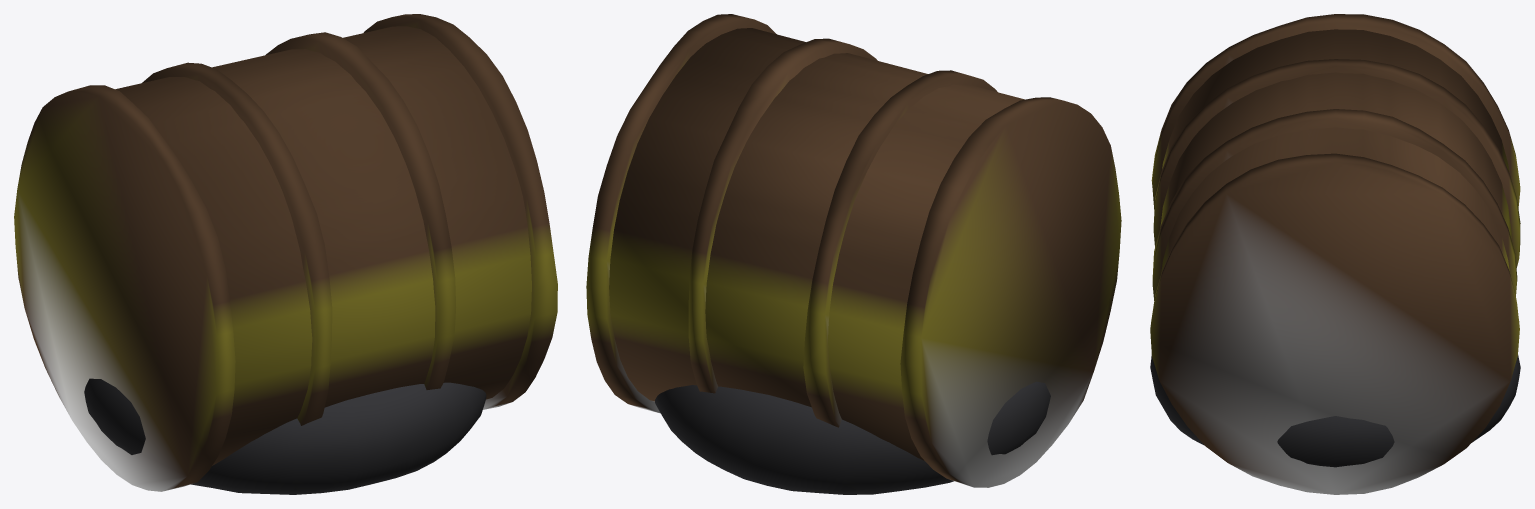
Rendered from trash.glb.
3 renders of one model, left to right at view 1: azimuth 30°, elevation 25°; view 2: azimuth 150°, elevation 25°; view 3: azimuth 270°, elevation 25°, orthographic. The views are drawn at different scales.
Visible parts, largest first — view 1: barrel, tire; view 2: barrel, tire; view 3: barrel, tire.
Boxes of the visible parts, x1,y1,x2,y2 form: barrel: (14,14,557,491); tire: (84,378,486,494); barrel: (586,14,1121,487); tire: (655,381,1050,494); barrel: (1150,14,1520,494); tire: (1150,355,1520,467).
Size of the model in its own units: 1.16 by 1.24 by 1.16.
